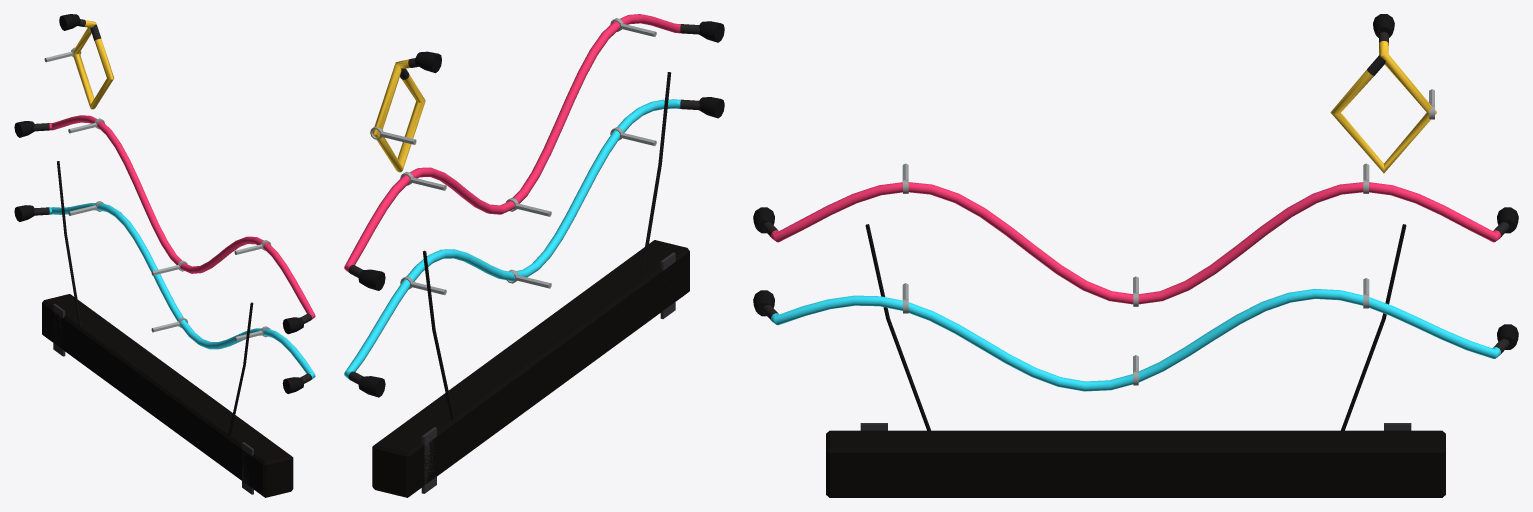
The model's file is neon_sign.glb.
The picture shows the model from 3 angles, left to right: view 1: azimuth 30°, elevation 25°; view 2: azimuth 150°, elevation 25°; view 3: azimuth 270°, elevation 25°; orthographic projection. The views are drawn at different scales.
Parts seen in each view (by area): view 1: teil0, teil2, teil5, teil4, teil7, teil6, teil8, teil1, teil3; view 2: teil0, teil2, teil5, teil4, teil7, teil6, teil8, teil1, teil3; view 3: teil0, teil2, teil5, teil6, teil4, teil8, teil7, teil3.
Part boxes in pixels (bbox=[...]): teil0: bbox=[42, 294, 293, 497]; teil2: bbox=[49, 115, 315, 319]; teil5: bbox=[49, 203, 315, 379]; teil4: bbox=[14, 14, 303, 393]; teil7: bbox=[44, 47, 271, 341]; teil6: bbox=[73, 20, 114, 109]; teil8: bbox=[57, 161, 253, 436]; teil1: bbox=[53, 304, 253, 494]; teil3: bbox=[34, 19, 311, 383]; teil0: bbox=[372, 240, 689, 497]; teil2: bbox=[344, 14, 680, 272]; teil5: bbox=[344, 99, 680, 378]; teil4: bbox=[358, 21, 724, 397]; teil7: bbox=[370, 18, 656, 294]; teil6: bbox=[372, 59, 425, 172]; teil8: bbox=[423, 72, 671, 419]; teil1: bbox=[421, 252, 675, 493]; teil3: bbox=[348, 24, 699, 384]; teil0: bbox=[826, 430, 1445, 497]; teil2: bbox=[771, 182, 1500, 304]; teil5: bbox=[771, 289, 1500, 391]; teil6: bbox=[1330, 41, 1436, 173]; teil4: bbox=[753, 14, 1518, 349]; teil8: bbox=[865, 224, 1406, 431]; teil7: bbox=[902, 89, 1434, 385]; teil3: bbox=[762, 32, 1509, 354].
Size of the model in its own units: 0.0805 by 0.7552 by 1.11.
